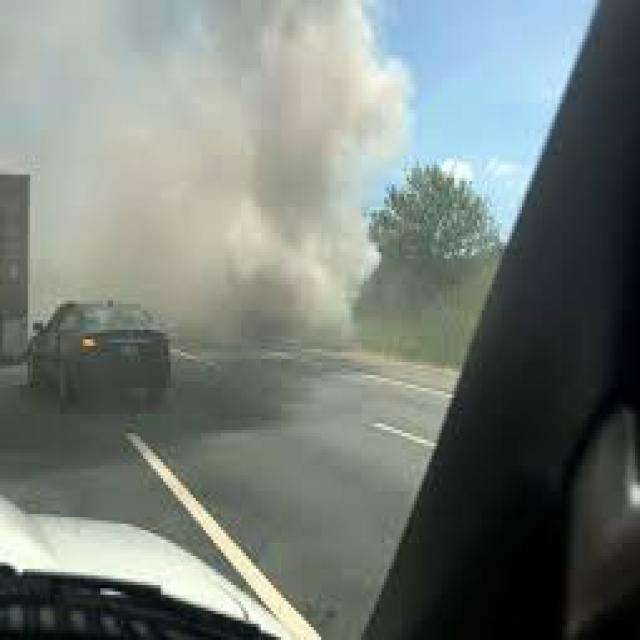smoke: (108, 3, 401, 356)
